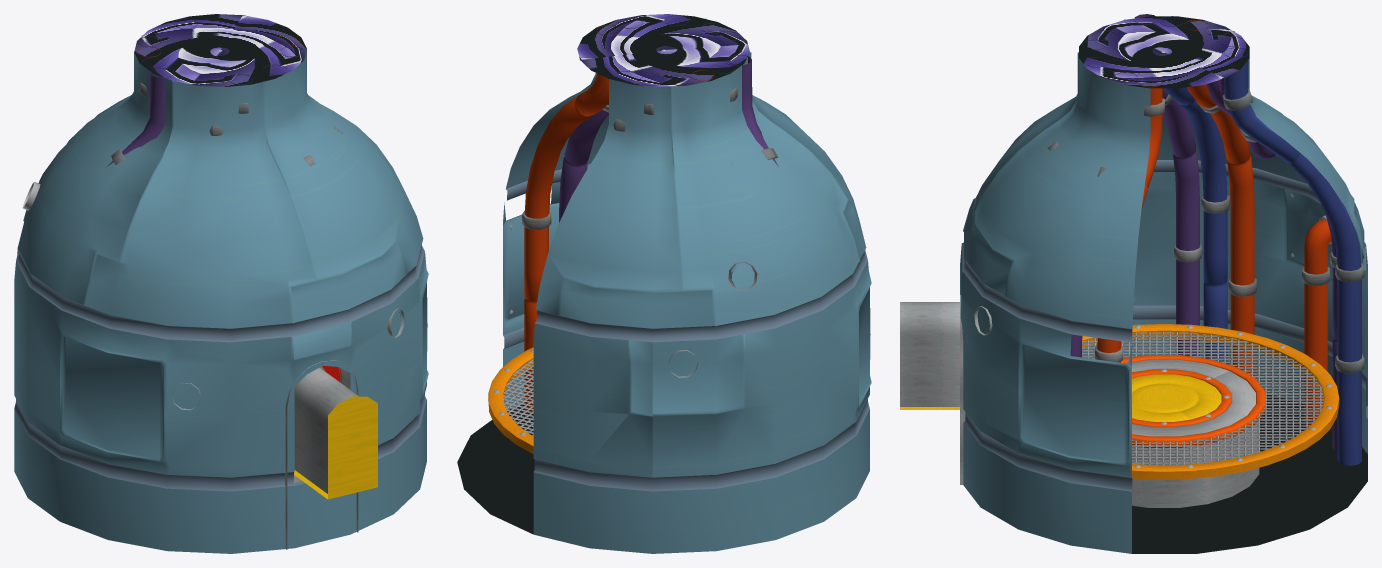
The model's file is astrodomemachine.dae.
3 renders of one model, left to right at view 1: azimuth 30°, elevation 25°; view 2: azimuth 150°, elevation 25°; view 3: azimuth 270°, elevation 25°, orthographic.
Parts seen in each view (by area): view 1: n3b4, n4b5, n7b1, n2b0, n6b7; view 2: n3b4, n4b5, n6b7, n1b3, n5b6; view 3: n3b4, n6b7, n4b5, n7b1, n1b3, n5b6, n2b0.
Boxes of the visible parts, box(x1,y1,x2,y2) form: n3b4: box(14, 35, 428, 553); n4b5: box(134, 14, 306, 86); n7b1: box(22, 181, 404, 549); n2b0: box(294, 366, 377, 499); n6b7: box(106, 18, 400, 315); n3b4: box(503, 14, 871, 553); n4b5: box(457, 14, 749, 534); n6b7: box(522, 15, 778, 411); n1b3: box(488, 347, 533, 453); n5b6: box(503, 358, 533, 435); n3b4: box(960, 19, 1367, 553); n6b7: box(1047, 14, 1364, 465); n4b5: box(1079, 16, 1367, 553); n7b1: box(900, 155, 1331, 507); n1b3: box(1082, 324, 1339, 479); n5b6: box(1082, 331, 1323, 465); n2b0: box(900, 374, 1221, 421).
Size of the model in its own units: 2002 by 2240 by 2283.
Materials: 7 (7 with a texture image).
